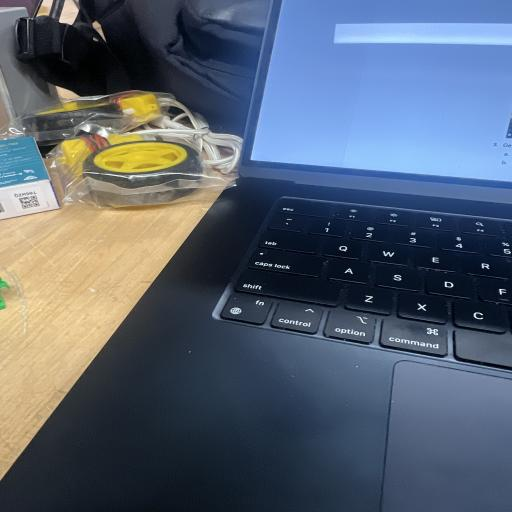green-lego-minifigure-detector: (0, 277, 10, 289), (0, 294, 5, 310)
